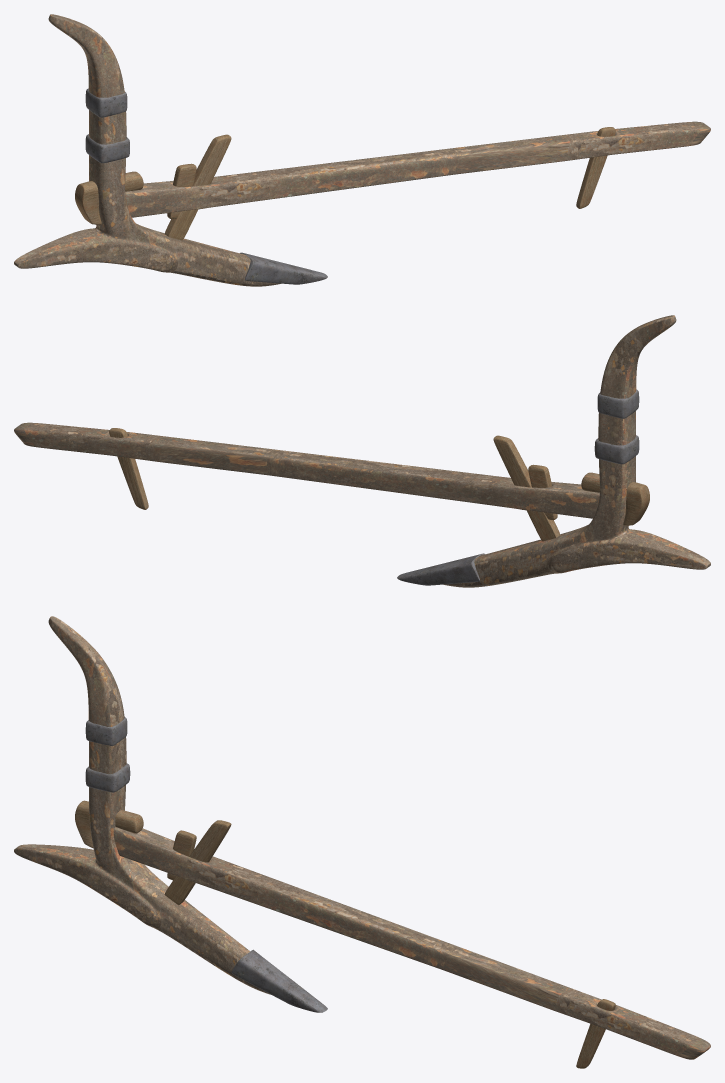
Rendered from arado2.fbx.
3 renders of one model, top to bottom at view 1: azimuth 30°, elevation 25°; view 2: azimuth 150°, elevation 25°; view 3: azimuth 330°, elevation 25°, orthographic.
Parts seen in each view (by area): view 1: timon; view 2: timon; view 3: timon.
Boxes of the visible parts, box(x1,y1,x2,y2) form: timon: box(14, 14, 710, 286); timon: box(14, 315, 710, 587); timon: box(14, 616, 710, 1068).
Size of the model in its own units: 1964 by 890 by 98.37.
